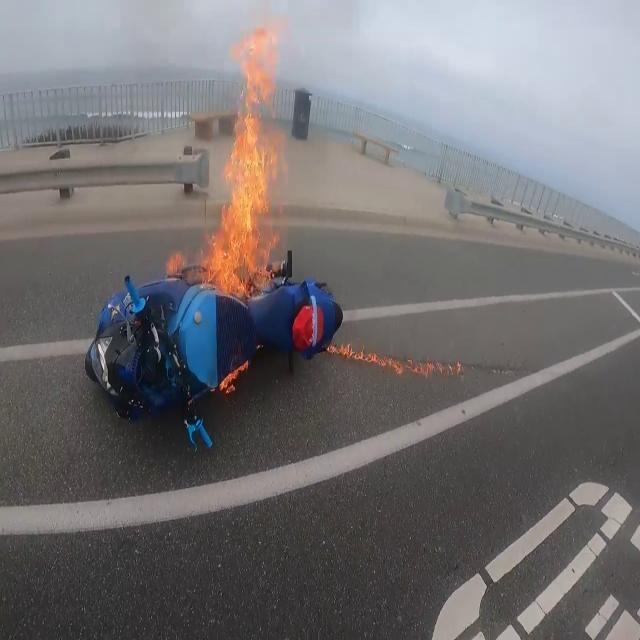Fire: (201, 19, 288, 298), (162, 243, 188, 281)
